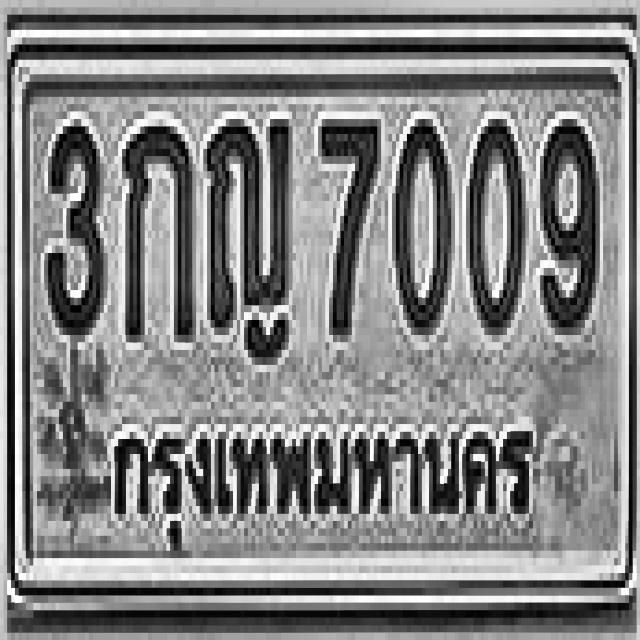license-plate: (11, 25, 632, 608)
